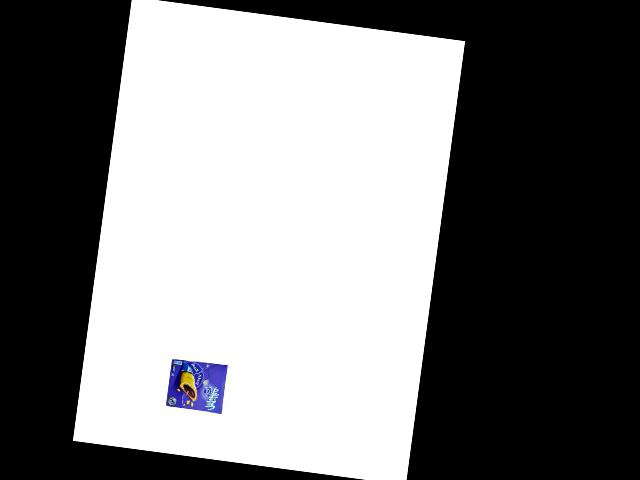chocolate: (161, 355, 231, 417)
